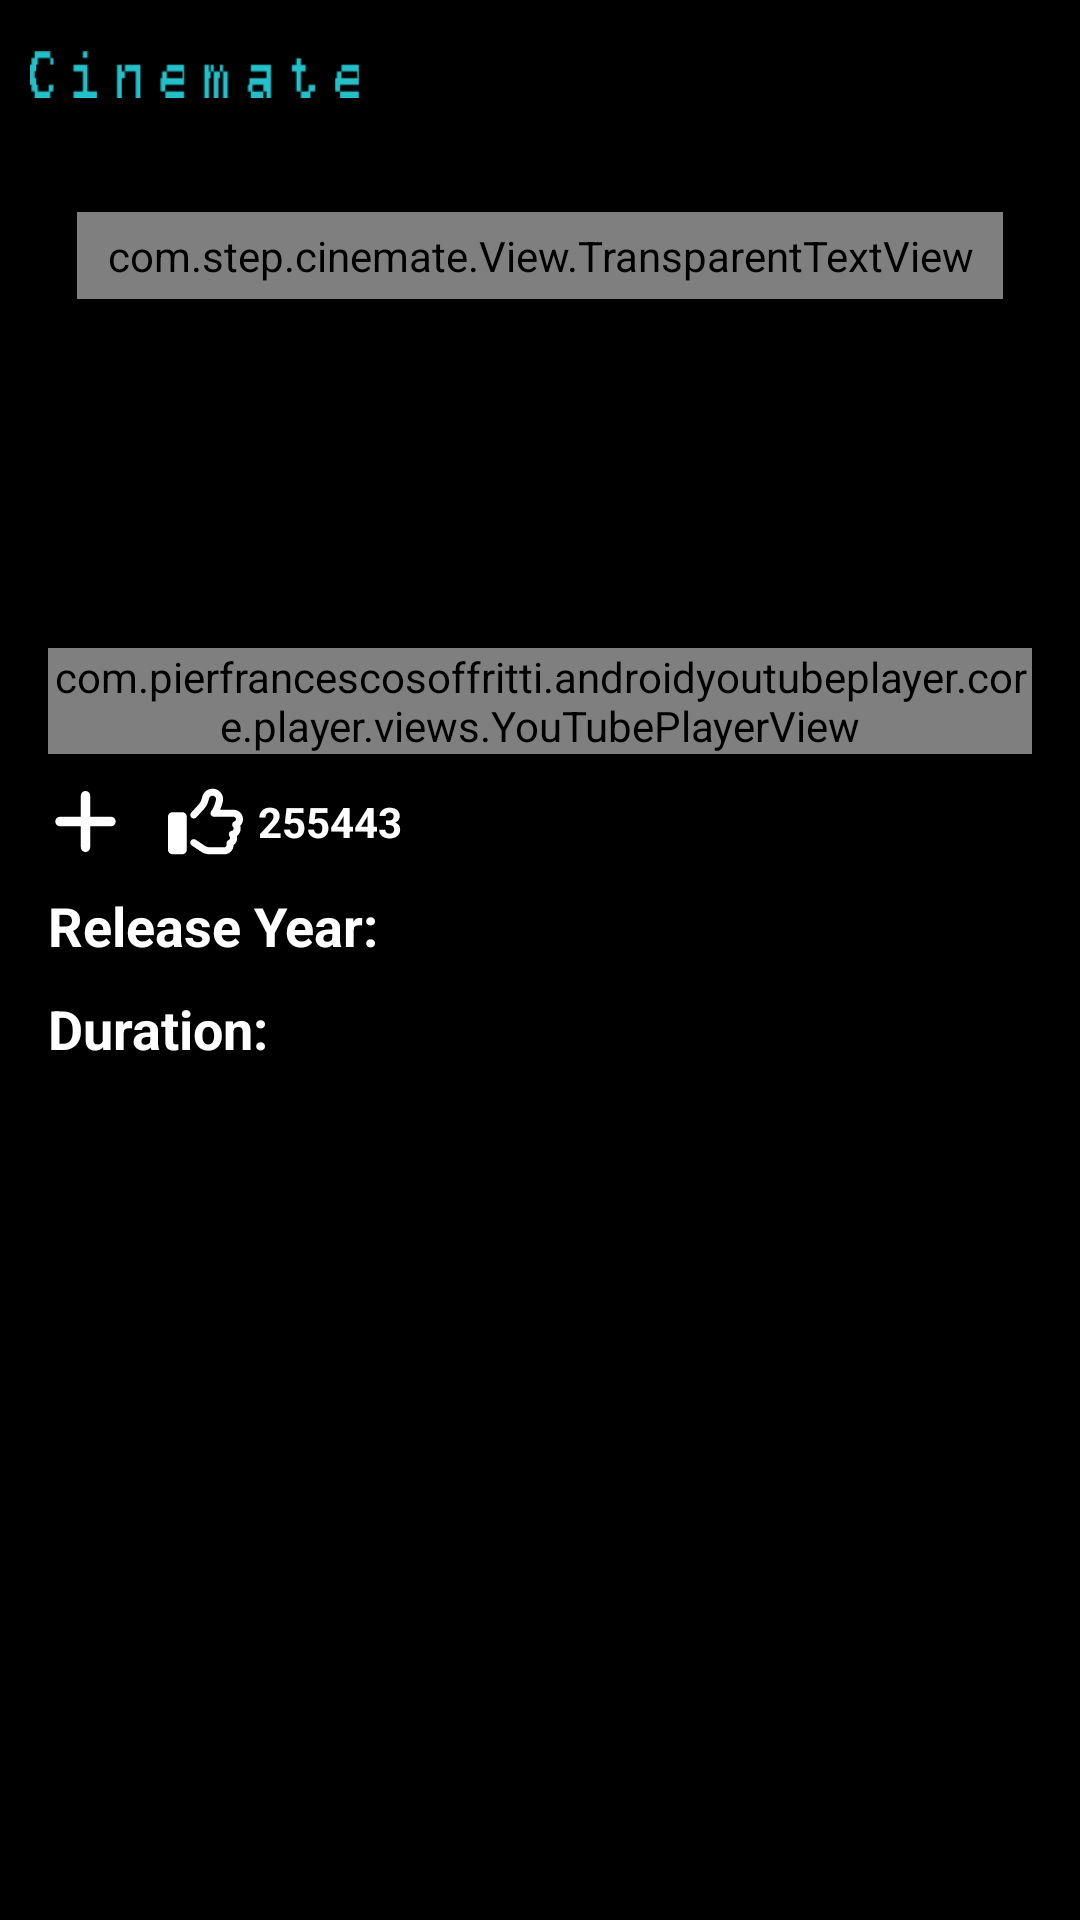

Where icons sit on this 1080w x 1920h app screen, as (x1, y1, x2, y2):
plus: (55, 791, 116, 852)
thumbs up: (168, 788, 243, 855)
